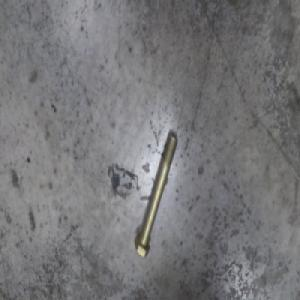Bolt: (135, 121, 177, 259)
